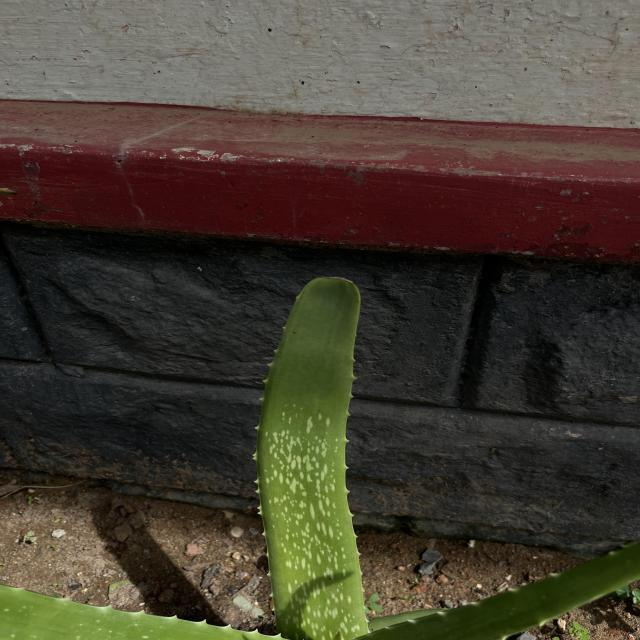Aloe vera: (250, 272, 373, 640)
